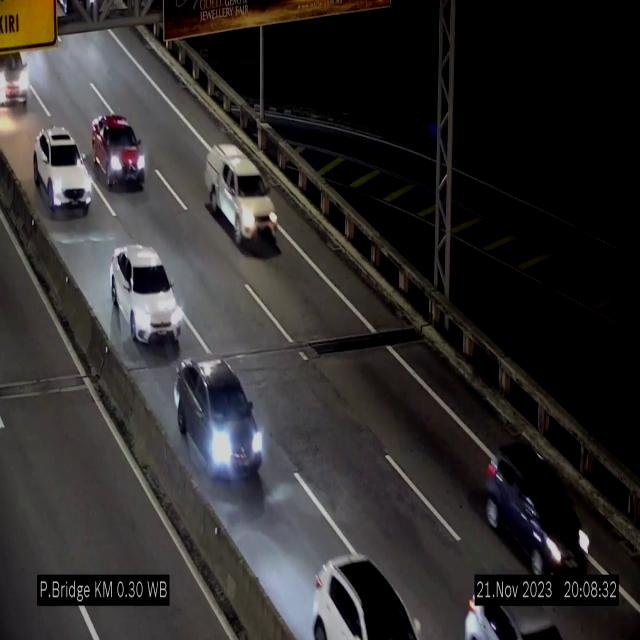Car: (488, 437, 590, 586), (174, 359, 266, 492), (301, 550, 427, 640), (205, 144, 279, 250), (110, 245, 183, 345), (451, 583, 566, 640), (34, 127, 92, 213), (91, 113, 146, 190), (0, 54, 34, 112)
